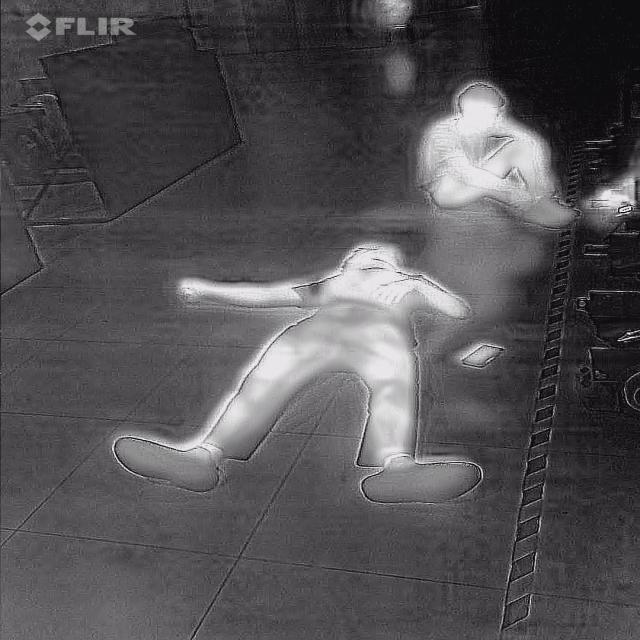Victim: (104, 234, 495, 508), (413, 73, 580, 235)
